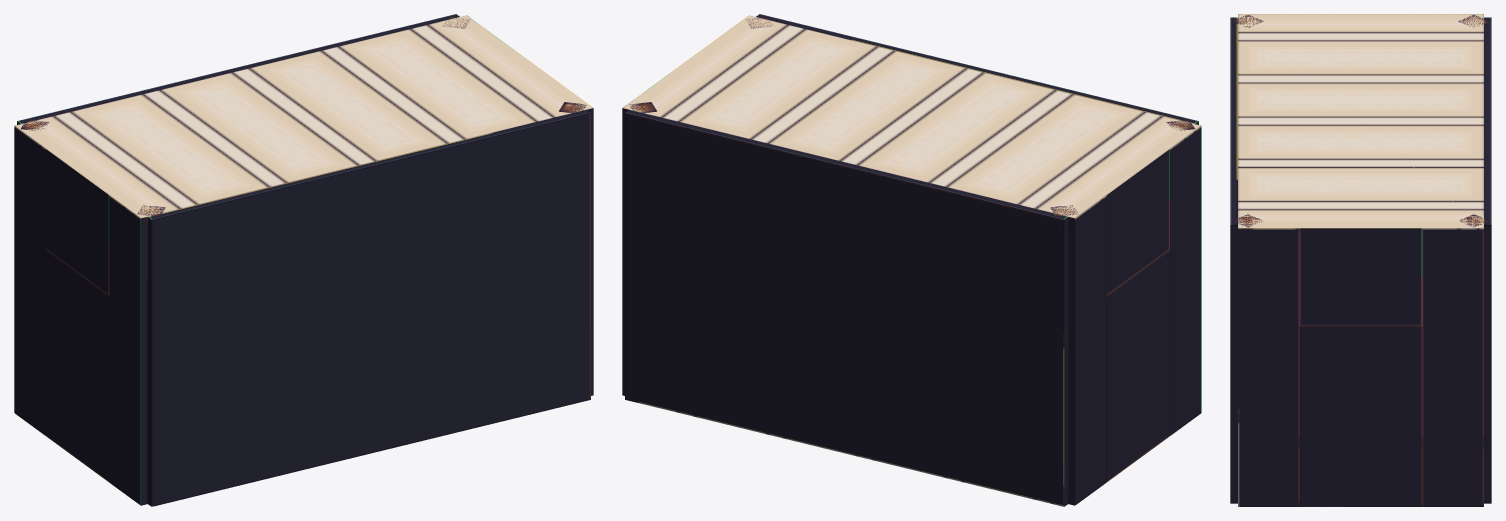
Rendered from Hallway_Burgundy.fbx.
3 views of the same model, side by side, from view 1: azimuth 30°, elevation 25°; view 2: azimuth 150°, elevation 25°; view 3: azimuth 270°, elevation 25° (orthographic). The views are drawn at different scales.
Parts seen in each view (by area): view 1: Model, WallReplacement_1; view 2: Model, WallReplacement_1; view 3: Model, WallReplacement.
Part boxes in pixels (box(x1,y1,x2,y2)): Model: box(14, 14, 593, 506); WallReplacement_1: box(46, 250, 109, 482); Model: box(622, 14, 1201, 506); WallReplacement_1: box(1106, 250, 1169, 482); Model: box(1230, 14, 1491, 506); WallReplacement: box(1299, 326, 1422, 506).
Bounding box in the file's own units: 412 × 250 × 212.
1 material, 1 textured.
